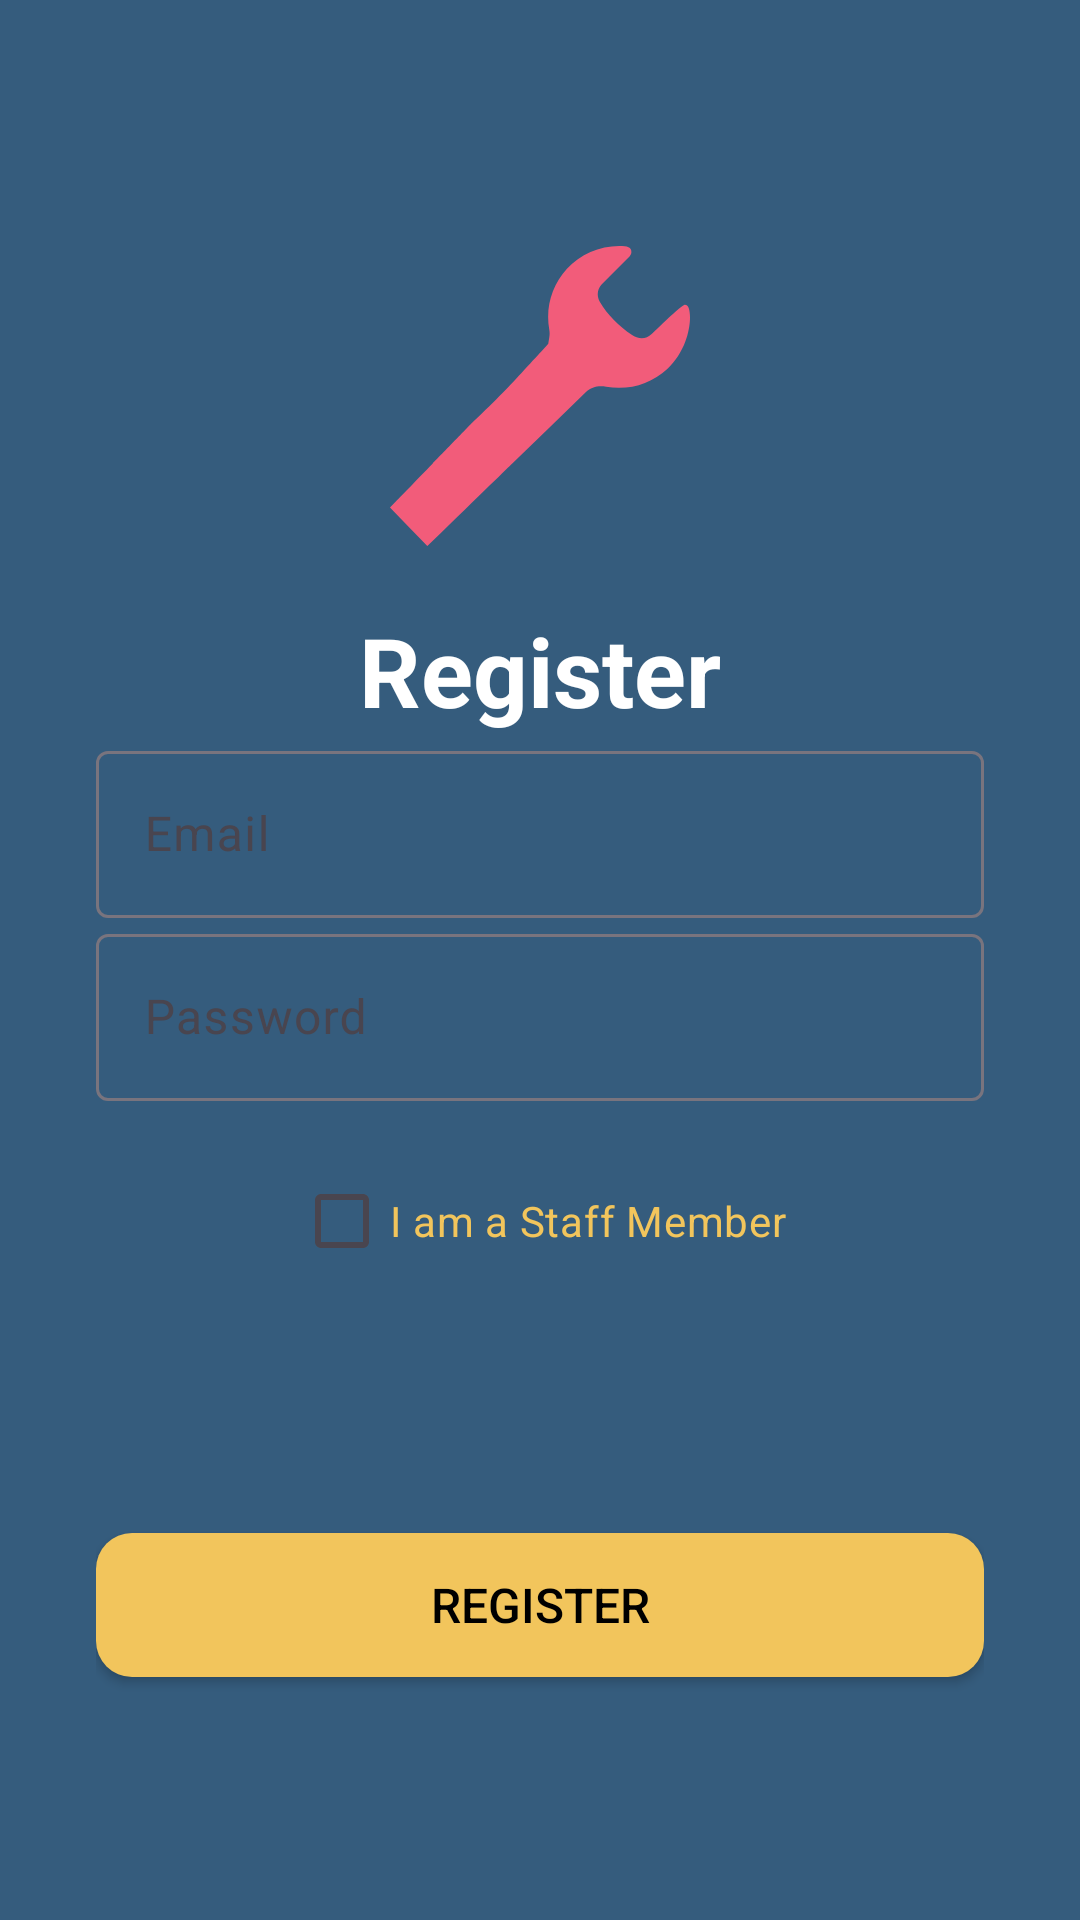

Icons on this 1080×1920 Android screen, each with its box as box(x1, y1, x2, y2):
wrench: box(390, 246, 690, 546)
